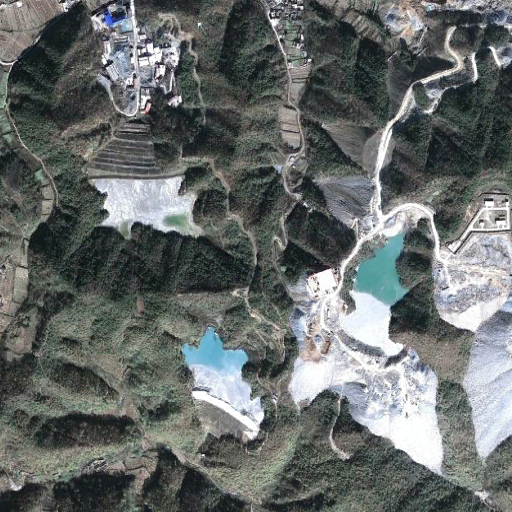tp: (93, 121, 207, 243), (333, 231, 414, 365), (181, 321, 260, 444)
